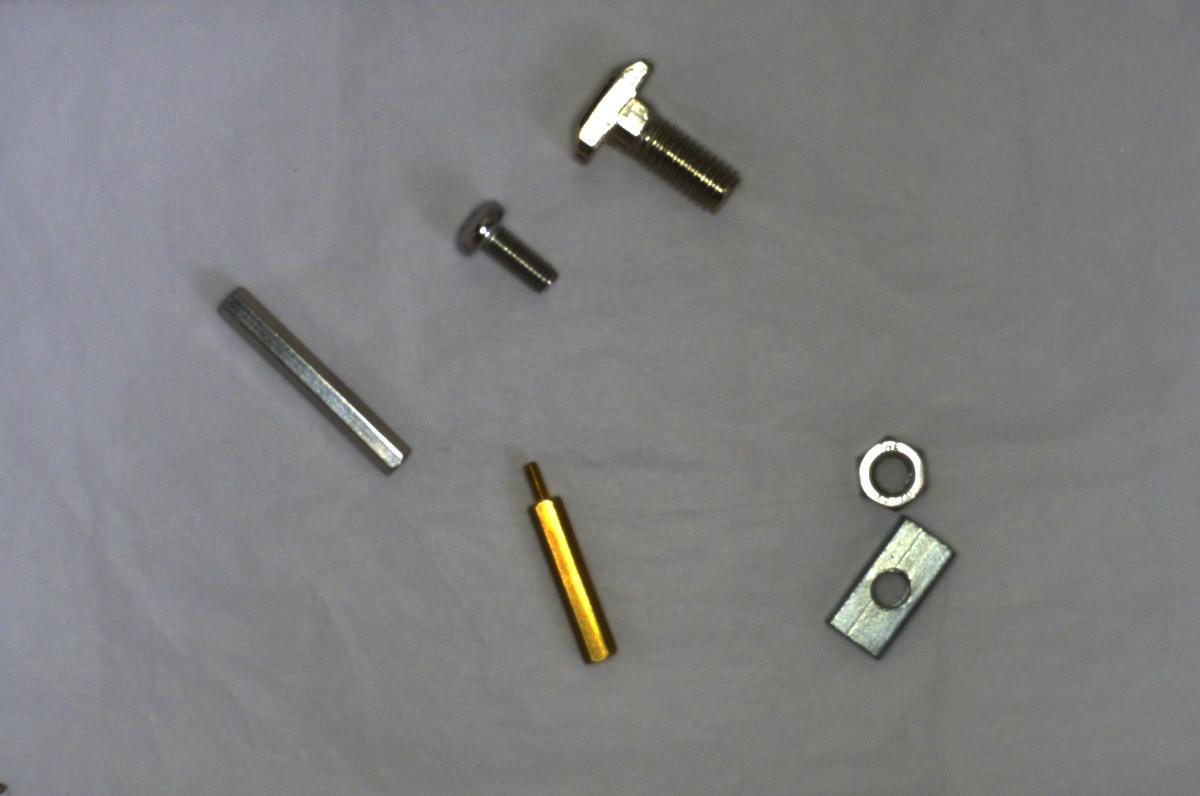Double hexagonal column: (207, 278, 420, 481)
Hexagon nut: (844, 428, 939, 516)
Hexagon pillar: (512, 450, 620, 673)
Rectangular nut: (807, 510, 961, 668)
Round head screw: (450, 196, 565, 300)
T-shaped screw: (568, 53, 744, 214)
